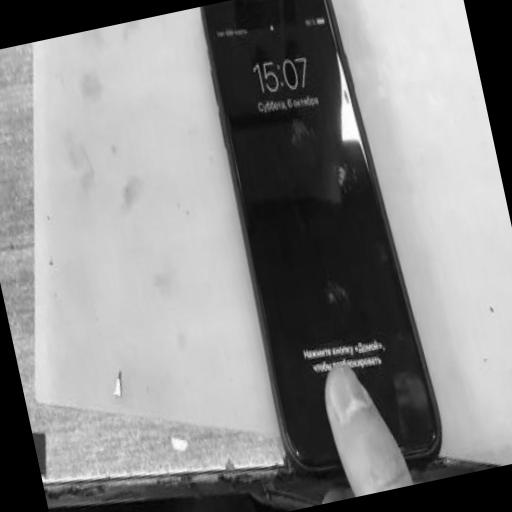phone: (200, 0, 440, 472)
